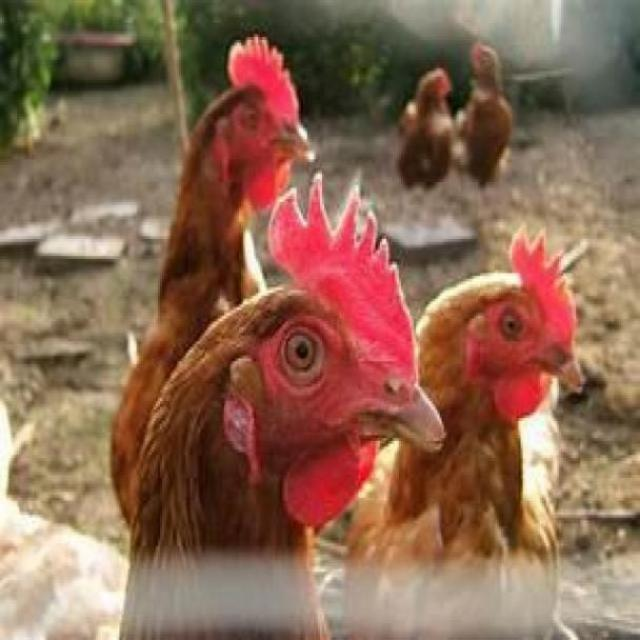Chicken: (0, 172, 448, 640), (109, 34, 316, 541), (350, 229, 584, 640), (457, 40, 512, 188), (397, 68, 454, 191)
